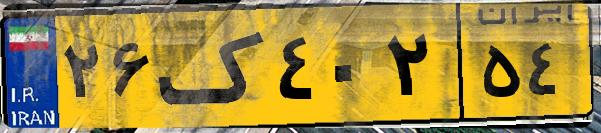0: (330, 28, 385, 110)
2: (385, 28, 445, 110), (57, 26, 110, 100)
4: (270, 28, 330, 110), (525, 38, 570, 115)
5: (475, 38, 525, 113)
6: (110, 28, 158, 98)
ک: (158, 12, 270, 120)
